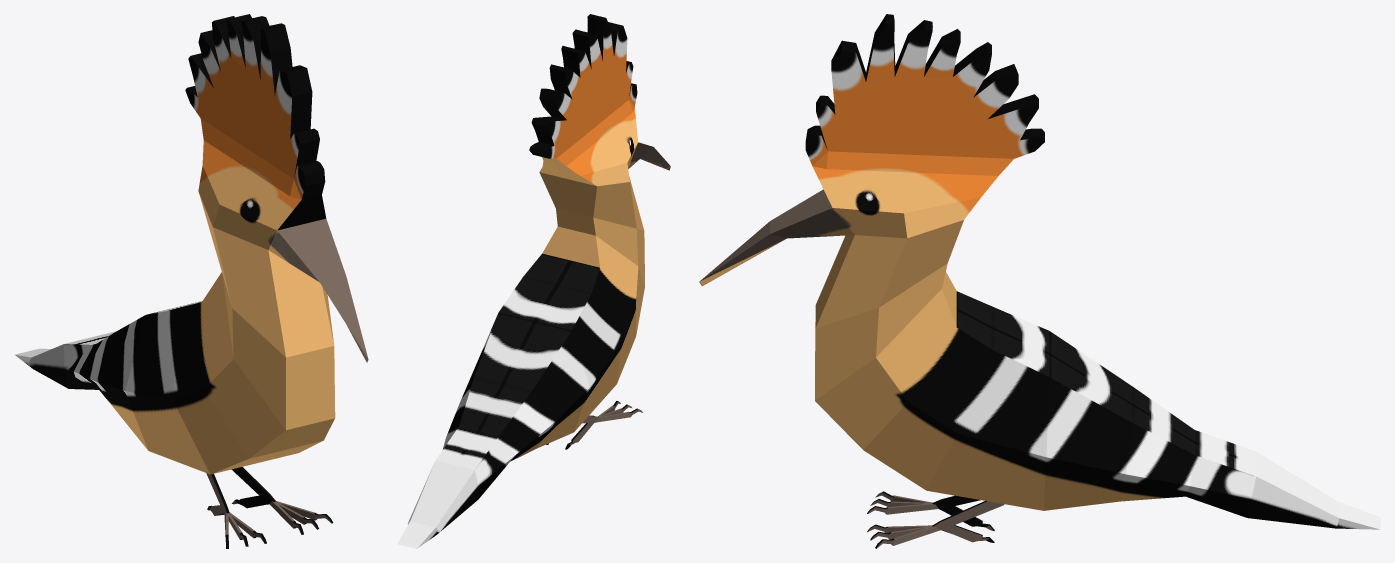
Rendered from kukurisblend.glb.
The picture shows the model from 3 angles, left to right: view 1: azimuth 30°, elevation 25°; view 2: azimuth 150°, elevation 25°; view 3: azimuth 270°, elevation 25°; orthographic projection. The views are drawn at different scales.
Parts seen in each view (by area): view 1: Plane.002; view 2: Plane.002; view 3: Plane.002.
Part boxes in pixels (x1,y1,x2,y2): Plane.002: (15, 14, 368, 548); Plane.002: (397, 14, 670, 548); Plane.002: (699, 14, 1380, 548).
Size of the model in its own units: 1.03 by 3.68 by 4.4.
1 material, 1 textured.
